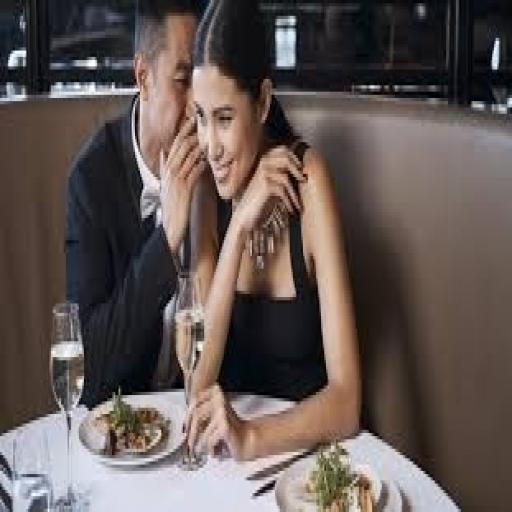eating: (60, 0, 365, 461)
